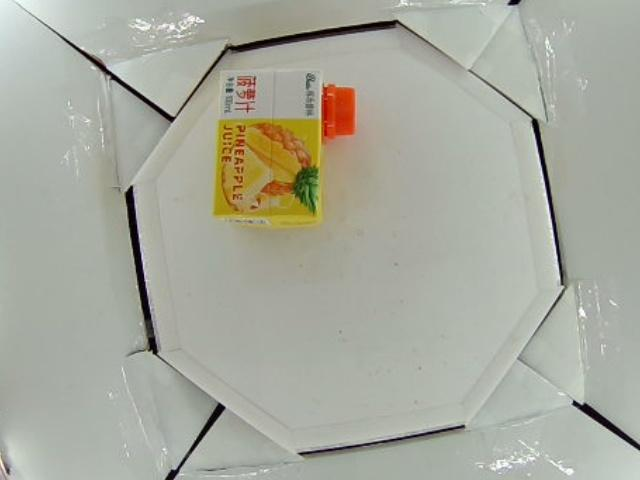Bottle: (210, 65, 358, 225)
